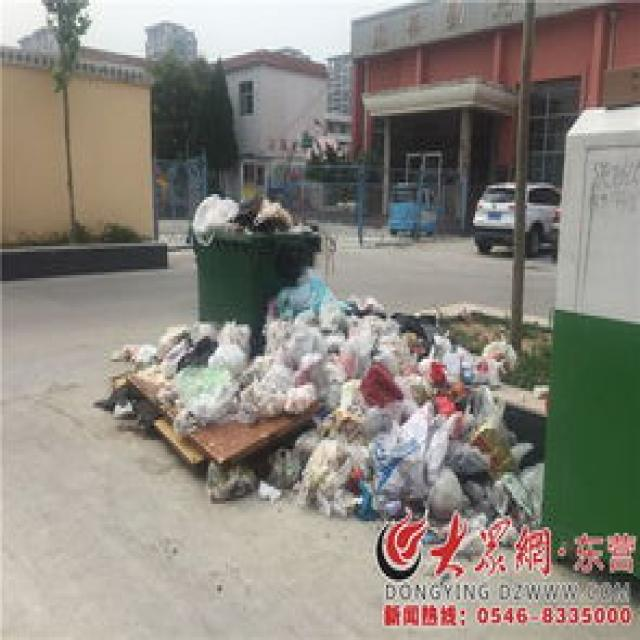garbage: (93, 261, 545, 553)
overflow: (182, 191, 338, 319)
